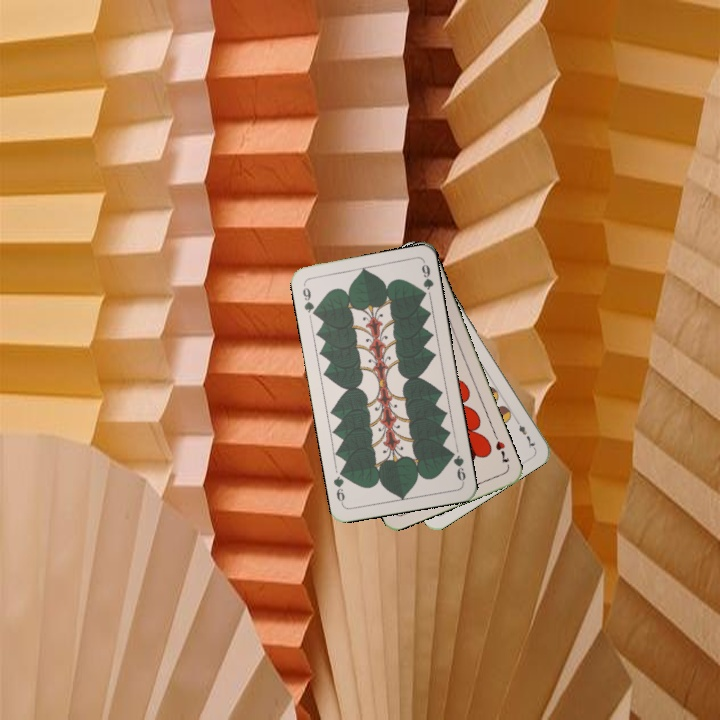E7: (511, 414, 538, 451)
G9: (446, 446, 468, 485), (299, 280, 320, 319)
H7: (490, 430, 512, 466)
